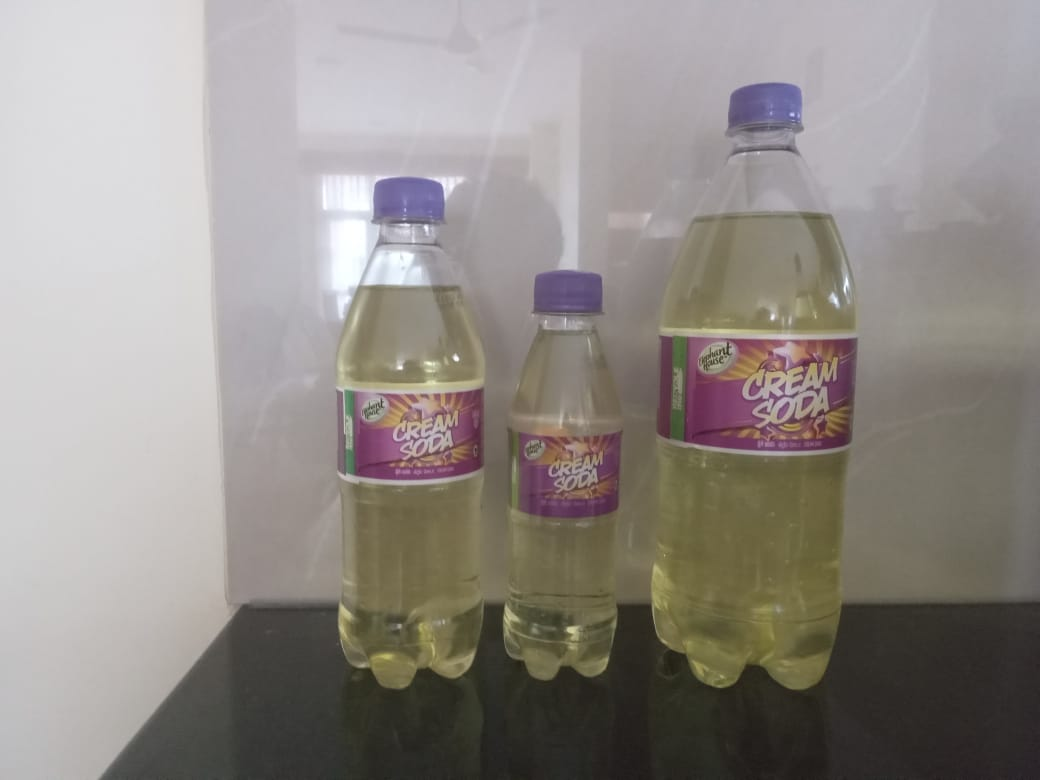L: (649, 80, 862, 697), (503, 271, 625, 683)
S: (331, 176, 496, 697)
